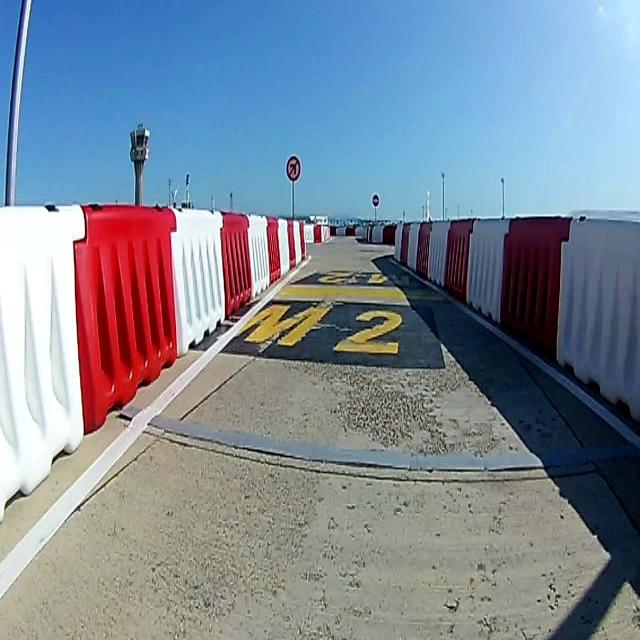soladonulmez: (286, 156, 300, 182)
